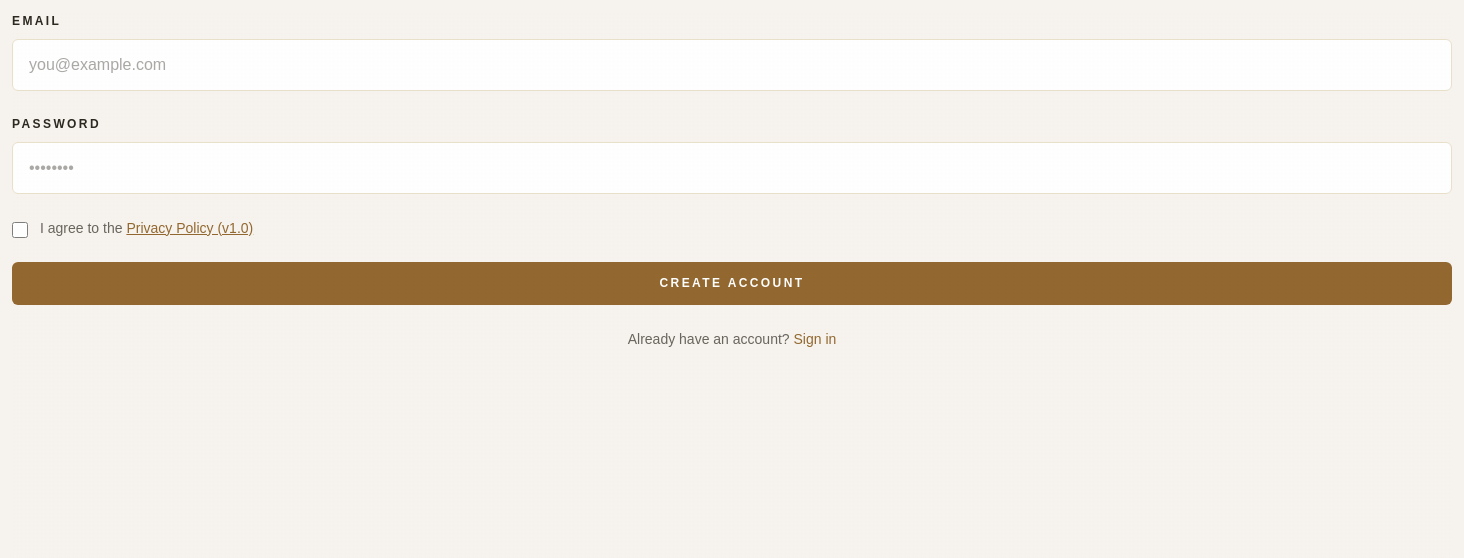
Test: SignupForm › shows rate limit error on 429
Type "test@example.com" into the field labelled "Email".
click(732, 65); type("test@example.com")  # box x1=12 y1=39 x2=1452 y2=91
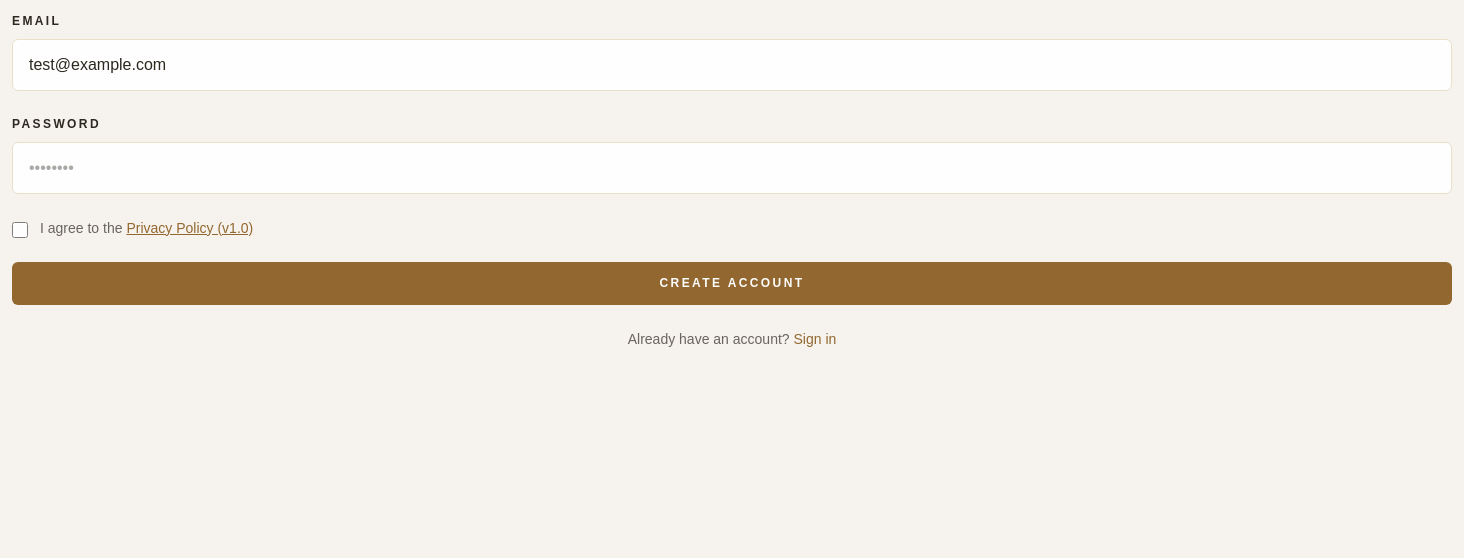
Type "Password1!" into the password field labelled "Password".
click(732, 168); type("Password1!")  # box x1=12 y1=142 x2=1452 y2=194
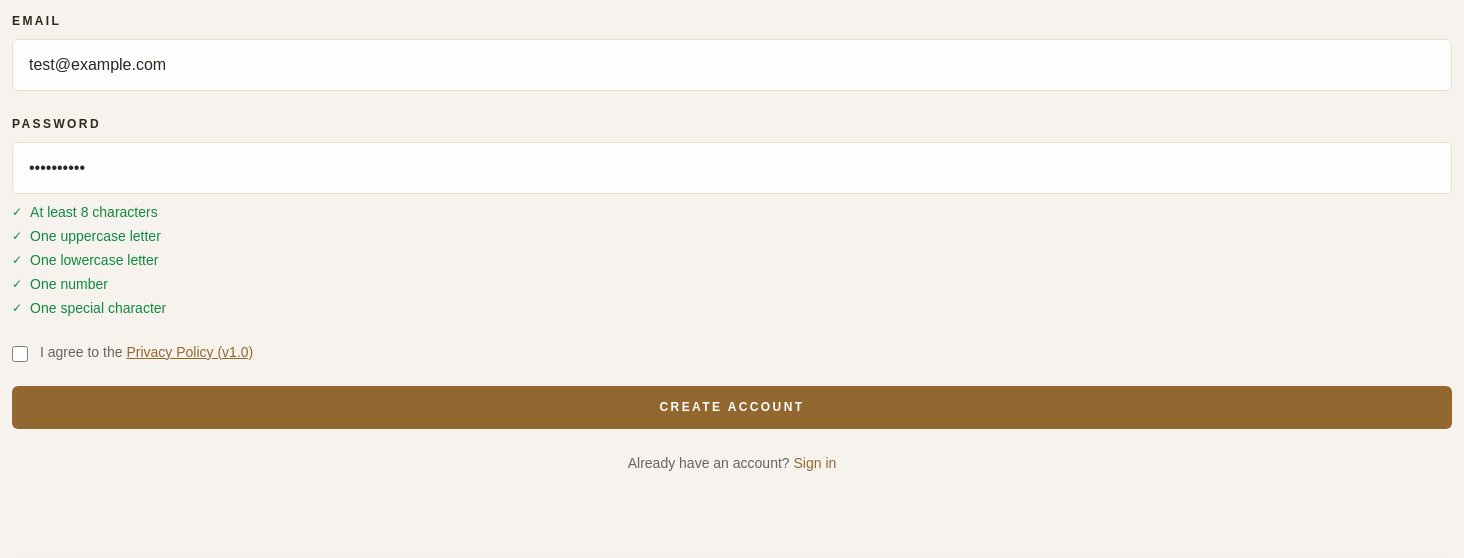
Click the checkbox.
click(20, 354)  # box x1=12 y1=346 x2=28 y2=362
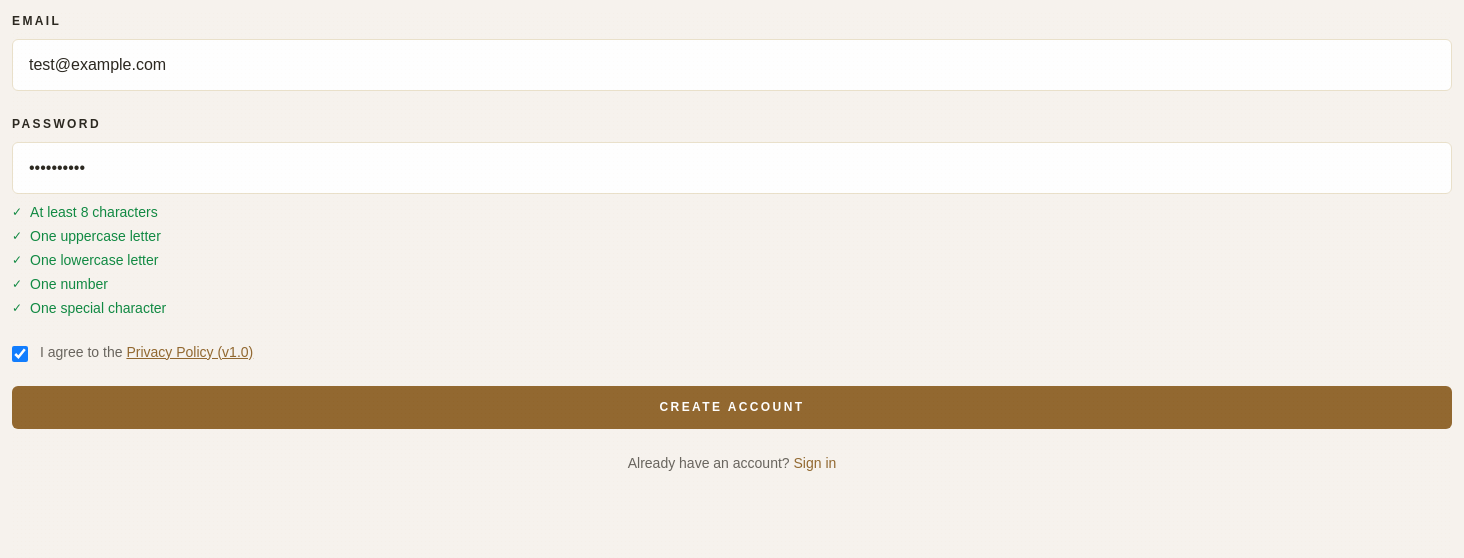
Click the button "Create Account".
click(732, 407)  # box x1=12 y1=386 x2=1452 y2=429
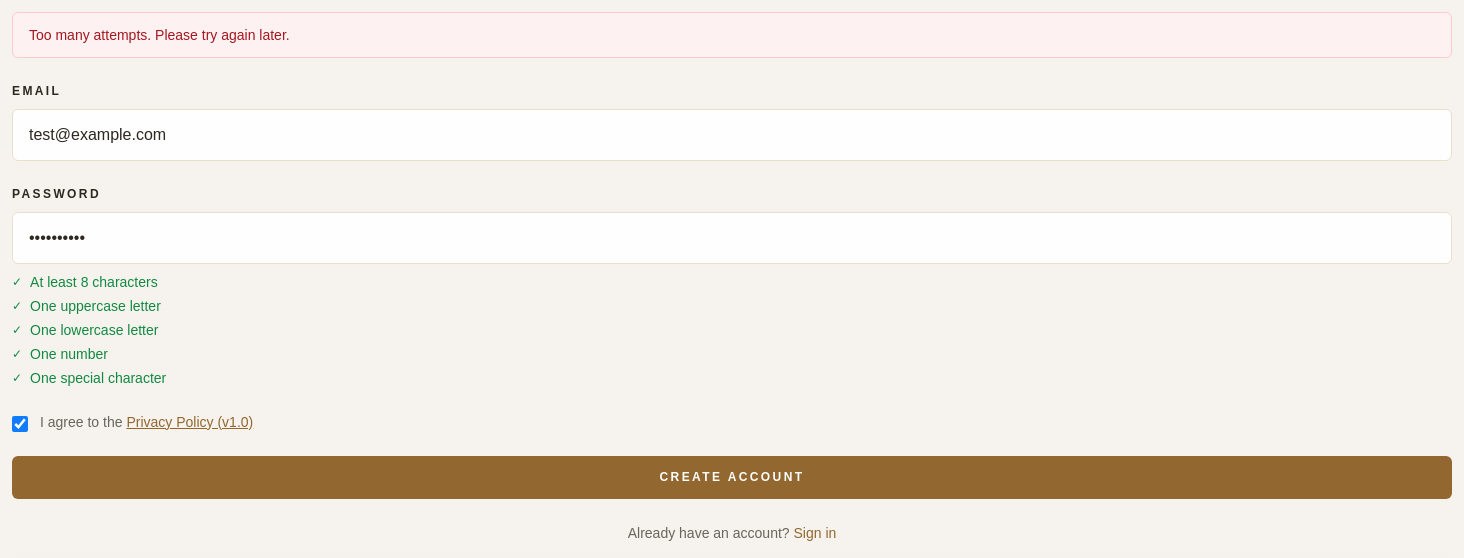
Check: the text "Too many attempts. Please try again later." is shown, box x1=12 y1=12 x2=1452 y2=58
